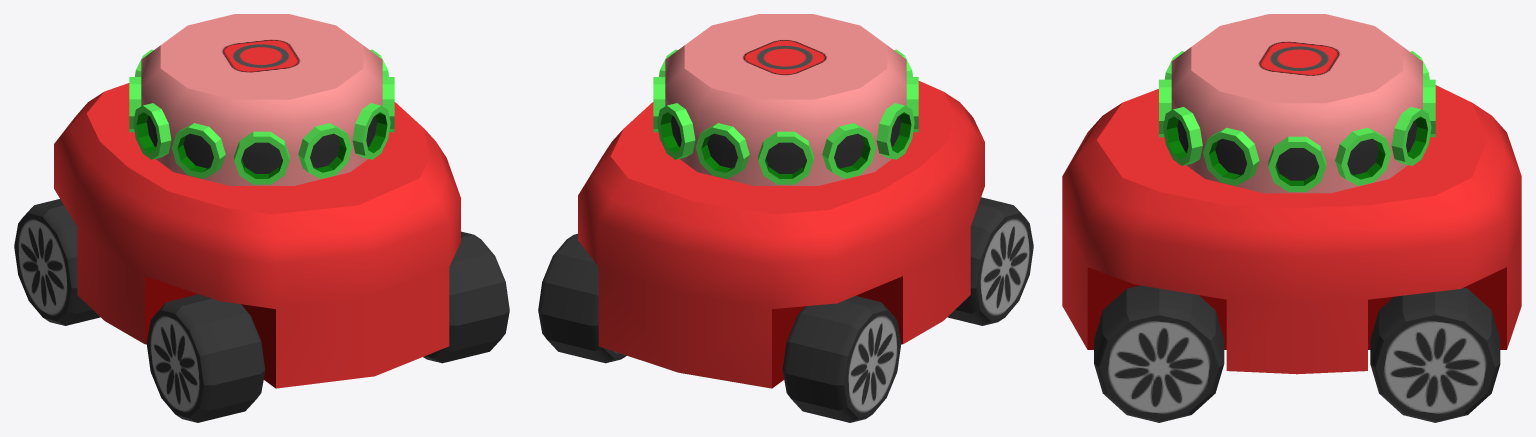
The model's file is Obj_1PCharater.fbx.
3 renders of one model, left to right at view 1: azimuth 30°, elevation 25°; view 2: azimuth 150°, elevation 25°; view 3: azimuth 270°, elevation 25°, orthographic. The views are drawn at different scales.
Parts seen in each view (by area): view 1: pCylinder9; view 2: pCylinder9; view 3: pCylinder9.
Boxes of the visible parts, box(x1,y1,x2,y2) form: pCylinder9: box(14, 14, 509, 422); pCylinder9: box(538, 14, 1033, 422); pCylinder9: box(1062, 14, 1521, 422).
Size of the model in its own units: 8.22 by 6.95 by 9.99.
2 materials, 2 textured.
